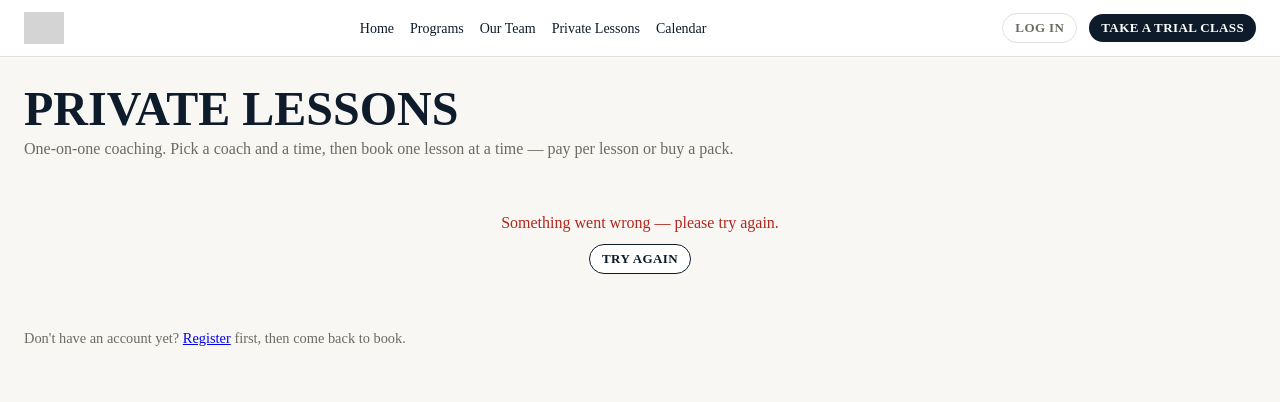
Test: PrivateClassesPage › renders LoadError with a working retry on a failed load
The width and height of the screenshot is (1280, 402).
Expected: the message "Something went wrong — please try again. Try again" is shown, [501, 214, 779, 274]
Step 1. Click the button "Try again" → (640, 259), box [589, 244, 691, 274]
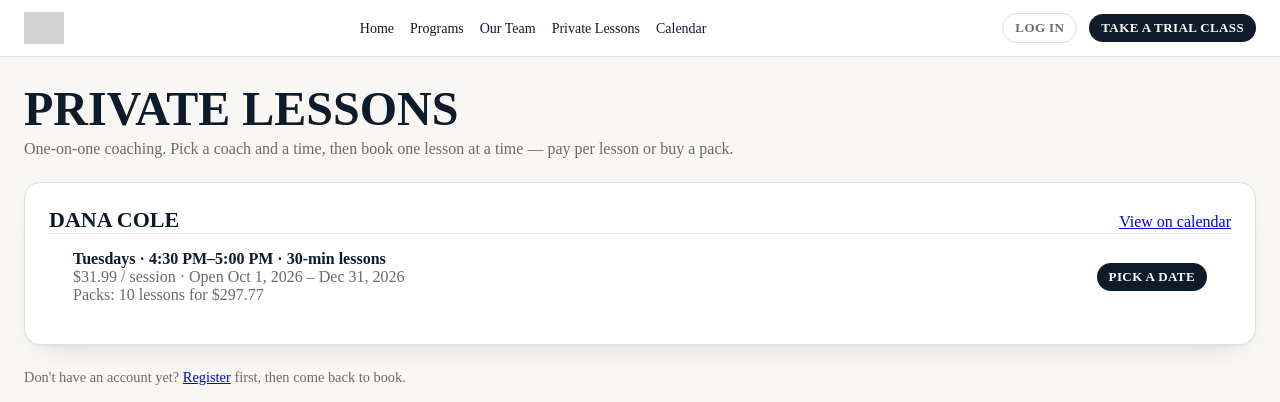
Expected: the heading "Dana Cole" is shown, [49, 207, 179, 233]
